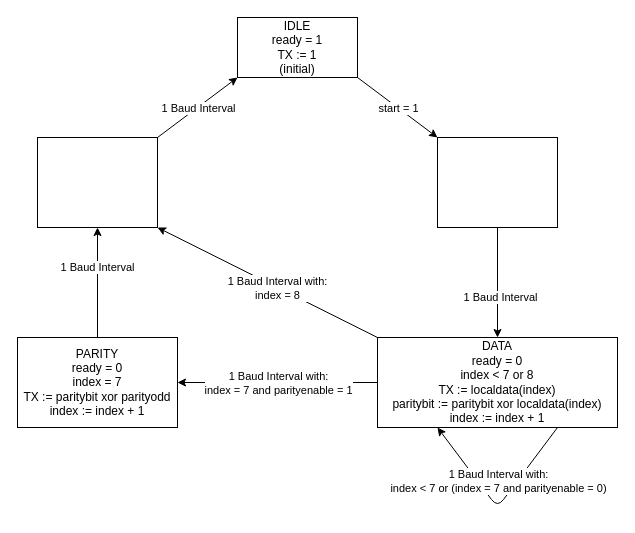
Some shapes in this 635 by 533 pixel diagram are drawn without their labels. The shapes that lost their labels are listed below. From the top down, each one's centre as x and y in pixels, then its label:
At point (97, 182): "STOP ready = 0 index = 8 TX := 1 index := index + 1".
At point (497, 182): "START ready = 0 index = 0 localdata := inputdata paritybit := 0 TX := 0".
